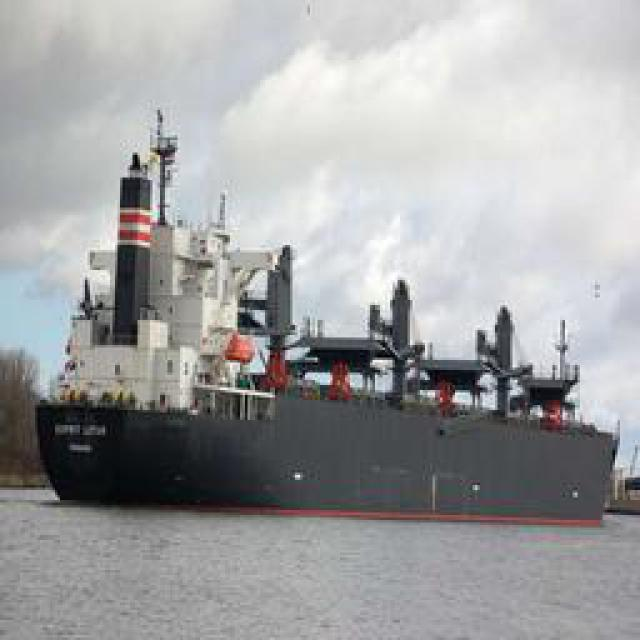Ship: (28, 229, 616, 519)
